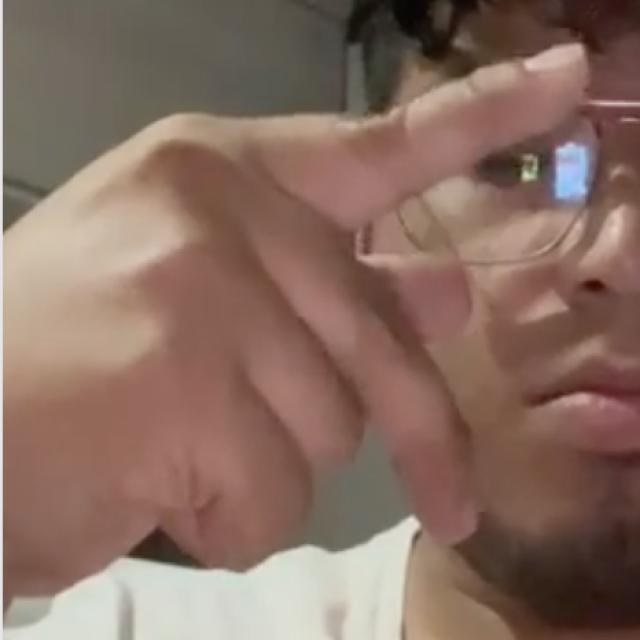K: (4, 38, 598, 618)
